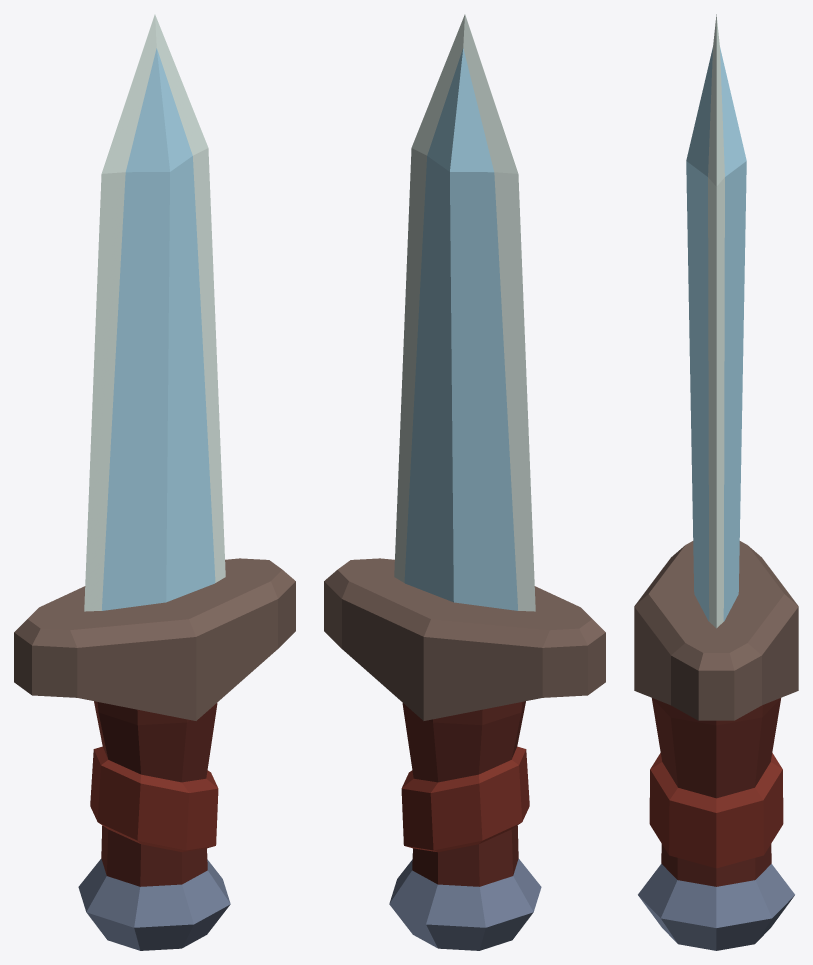
File: SM_Dagger.fbx
3 views of the same model, side by side, from view 1: azimuth 30°, elevation 25°; view 2: azimuth 150°, elevation 25°; view 3: azimuth 270°, elevation 25° (orthographic).
Visible parts, largest first — view 1: SM_Dagger; view 2: SM_Dagger; view 3: SM_Dagger.
Boxes of the visible parts, <box> form: SM_Dagger: <box>14,14,295,950</box>; SM_Dagger: <box>324,14,605,950</box>; SM_Dagger: <box>634,14,798,950</box>.
Size of the model in its own units: 21.15 by 70.09 by 11.44.
